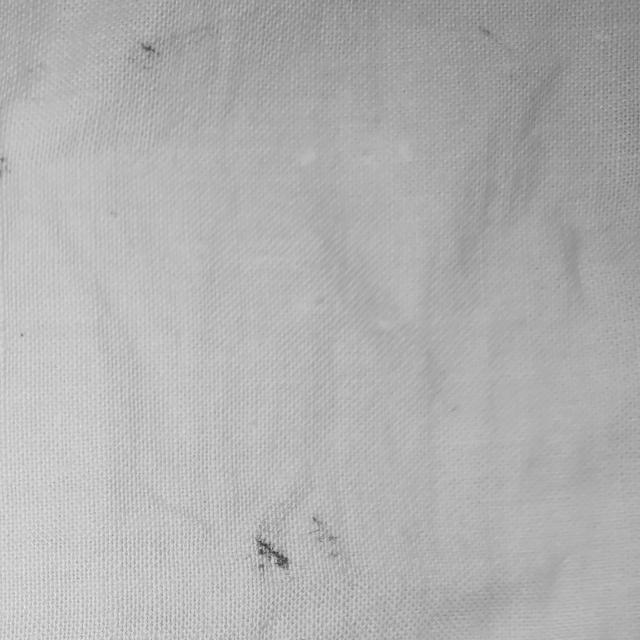Thread_other: (223, 499, 361, 604), (113, 26, 181, 76)
